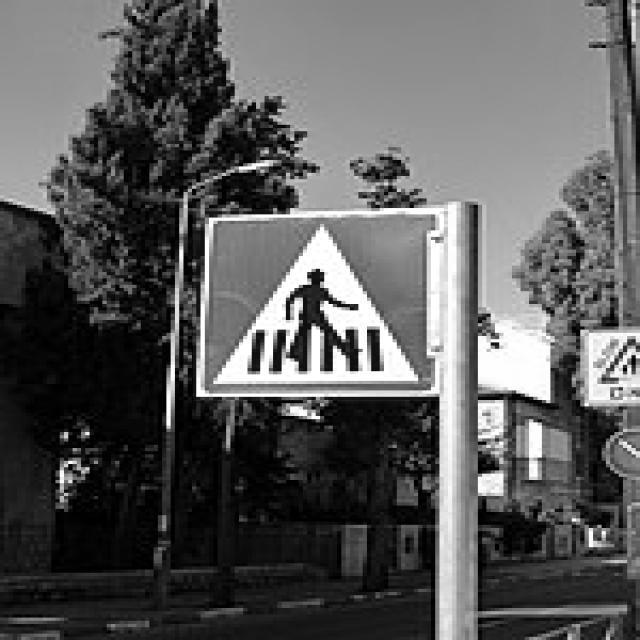pedestrian crossing: (190, 198, 449, 411)
